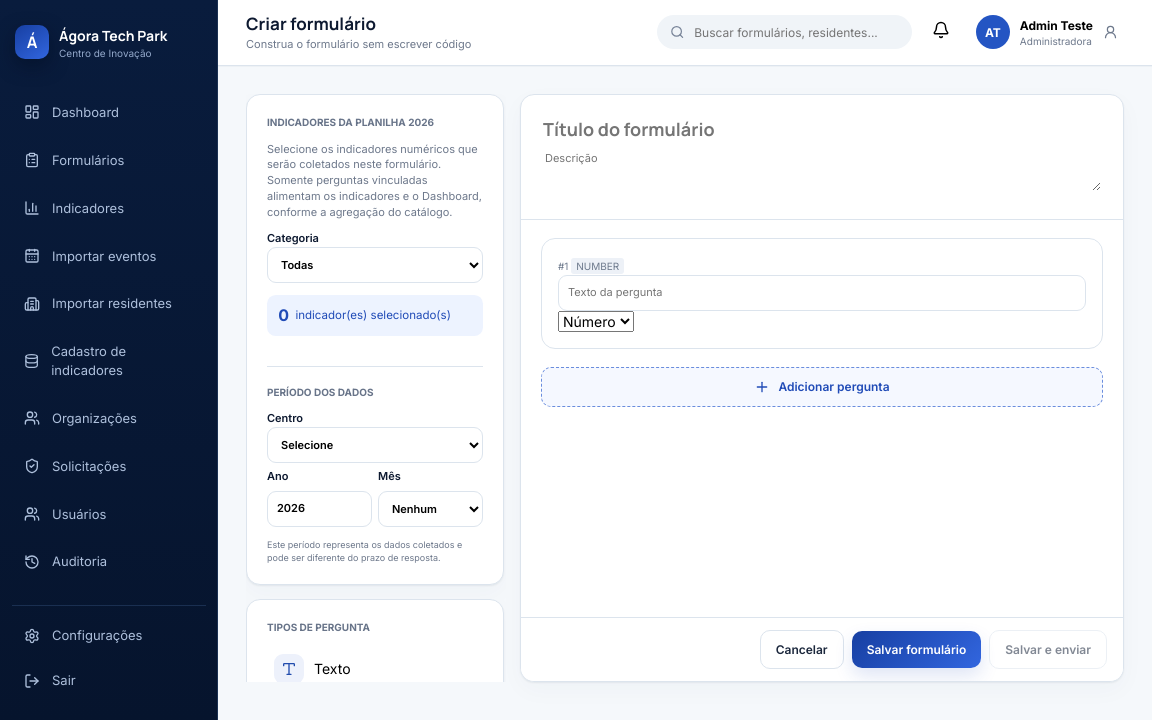
Test: busca e seleção explícita de respondentes › opens the eligible options automatically after selecting an organization
Type "Pesquisa de satisfação" into the field with placeholder "Título do formulário". click: (822, 129)
box: top-left (543, 117), bottom-right (1101, 141)
(page scrolled)
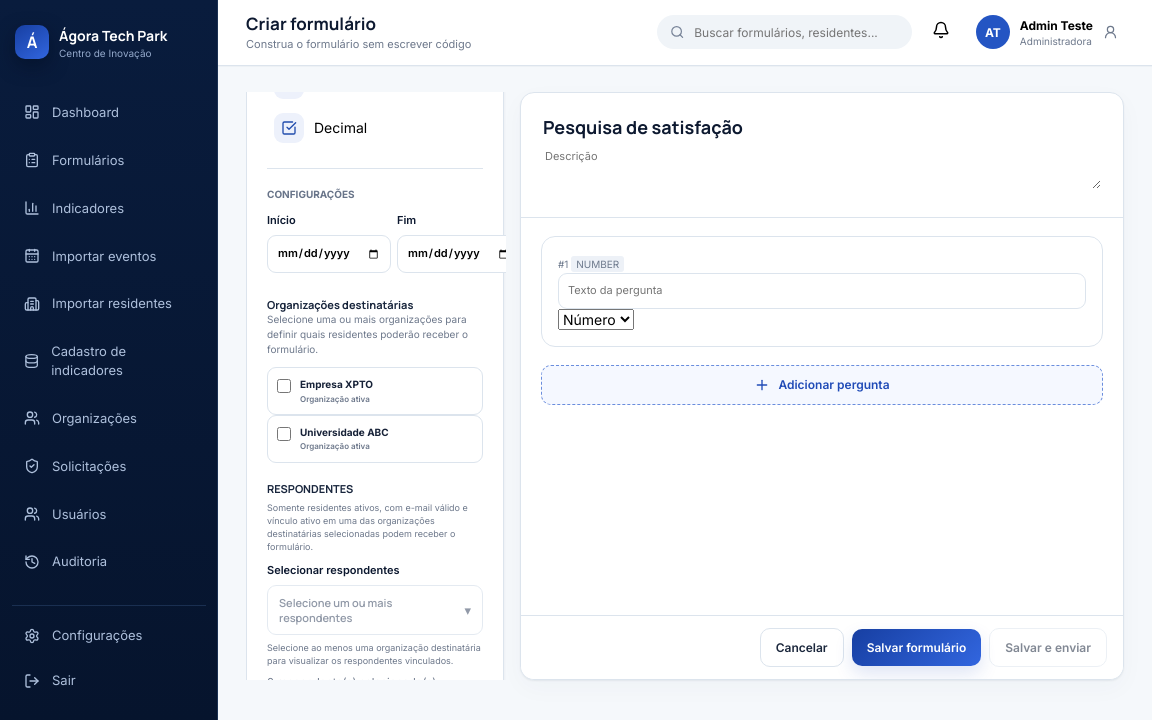
Click the checkbox labelled "Empresa XPTO Organização ativa". click: (284, 386)
box: top-left (277, 379), bottom-right (291, 393)
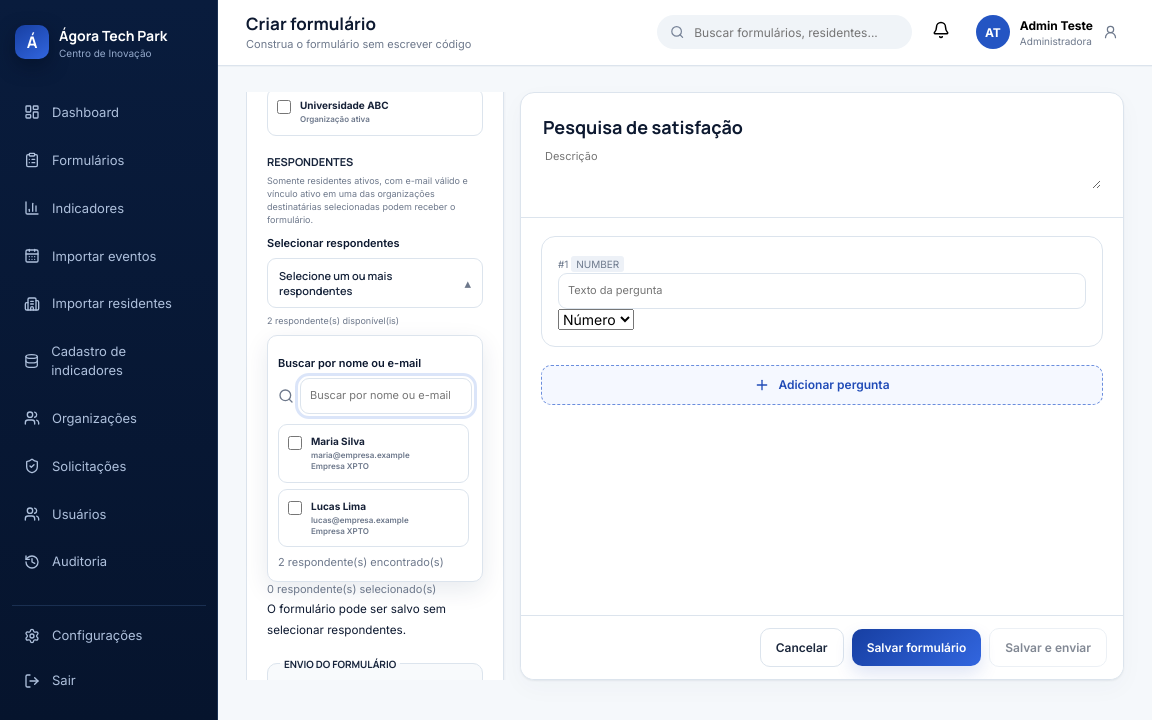
Check: the button named "Selecionar respondentes" is expanded, box top-left (267, 258), bottom-right (483, 308)
Check: the search field is empty, box top-left (300, 378), bottom-right (472, 414)
Check: the label "Maria Silva" is shown, box top-left (311, 435), bottom-right (365, 447)
